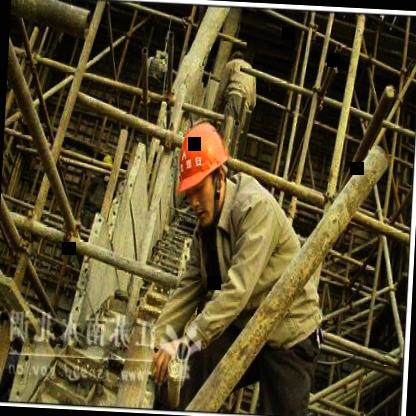helmet: (171, 112, 235, 224)
